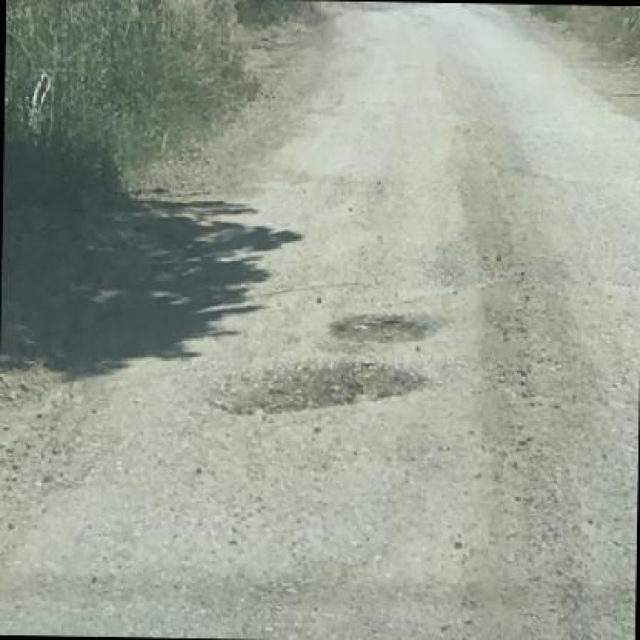pothole: (212, 363, 429, 417), (331, 314, 442, 345)
